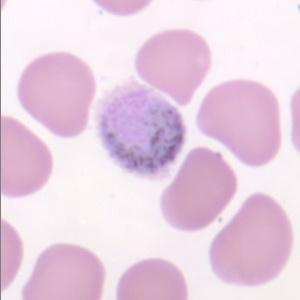Infected: (98, 80, 186, 180)
Uninfected: (209, 192, 294, 284), (196, 78, 281, 166), (19, 53, 96, 138), (162, 148, 237, 230), (135, 29, 211, 106), (21, 243, 103, 300), (0, 117, 52, 198), (114, 257, 189, 300)
